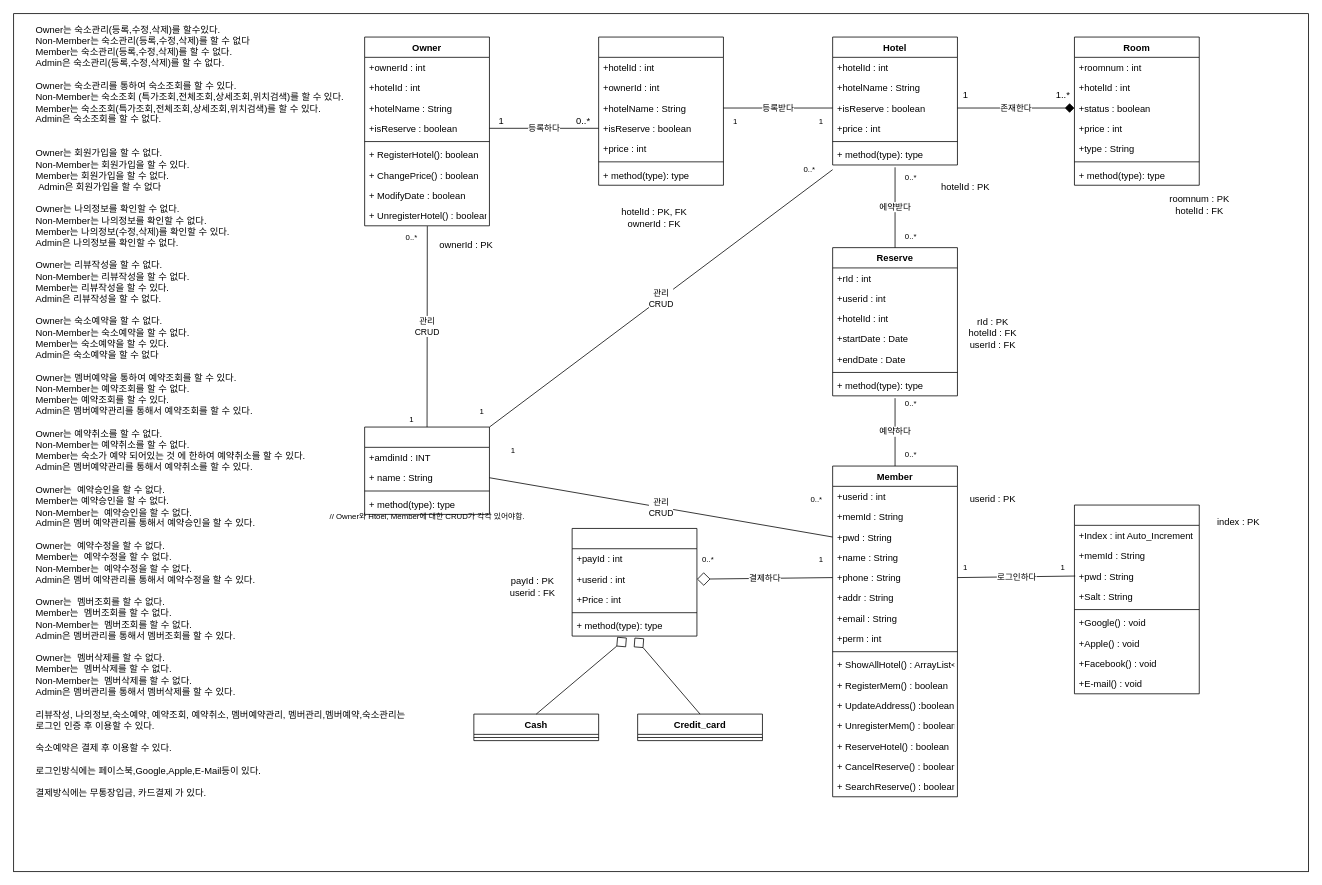
Some shapes in this 1322 by 885 pixel diagram are drawn without their labels. The box of each missing label's shape, as (x1, y1, x2, y2) in pixels:
Admin: (364, 426, 489, 514)
Login: (1074, 504, 1199, 694)
Payment: (571, 528, 697, 636)
Register: (598, 36, 723, 185)
